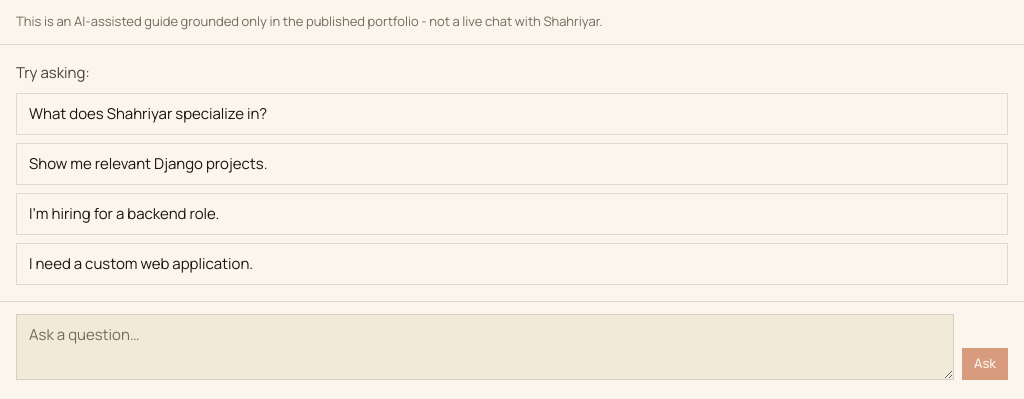
Test: AssistantChat › renders the insufficient-evidence state distinctly, without inventing a source
This screenshot has width=1024, height=399.
Type "Has he worked with Rust?" into the text box labelled "Ask a question…" at point(485, 346), box [16, 314, 954, 380]
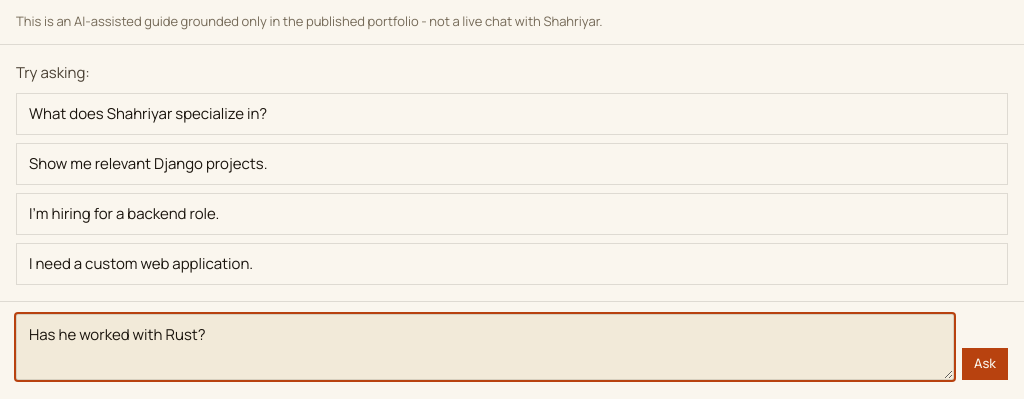
Click the button "Ask" at point(985, 364), box [962, 348, 1008, 380]
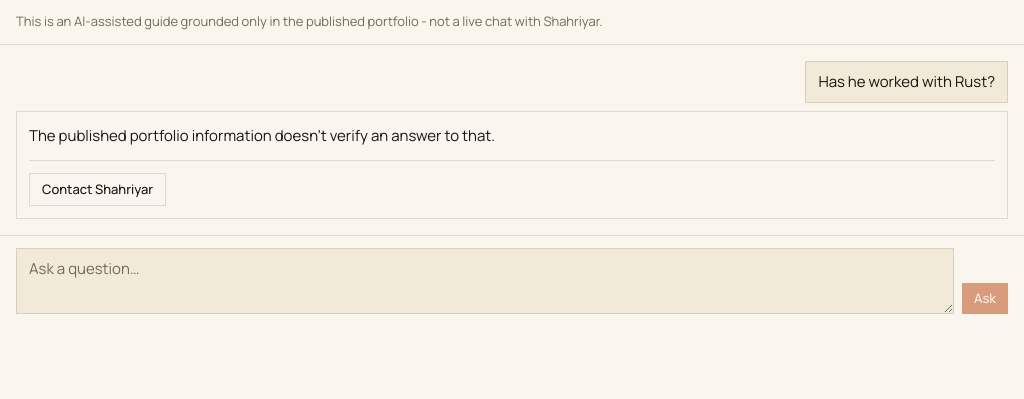
Result: the text "doesn't verify an answer" is shown at [29, 124, 495, 146]
